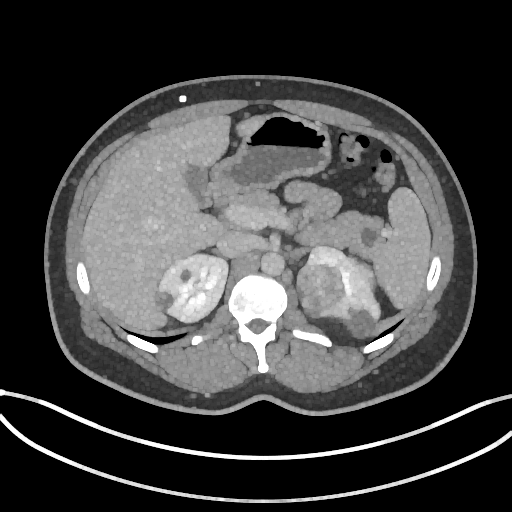Lesion: (292, 262, 348, 324), (153, 290, 175, 318)
